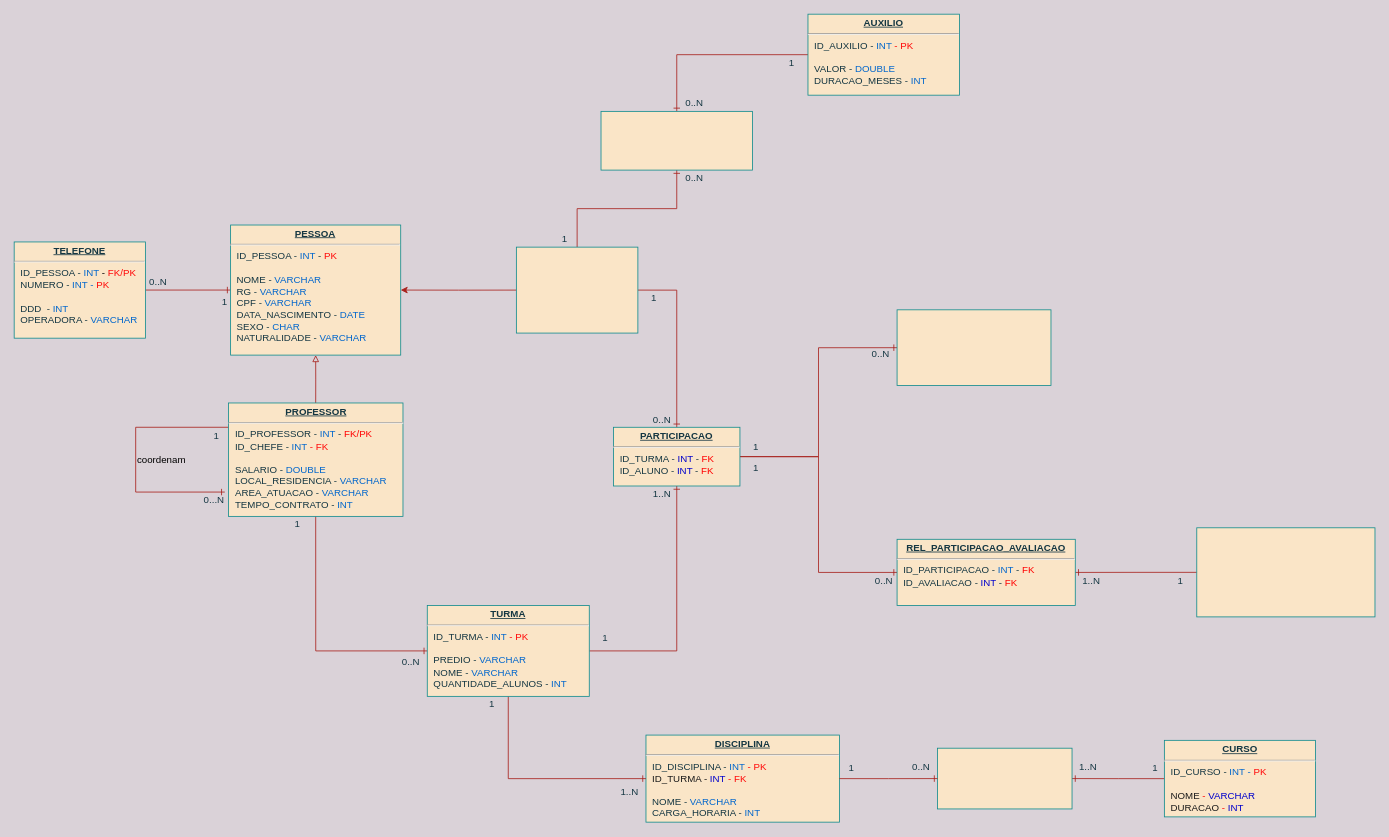
Image size: 1389x837. Some labels were removed from this diagram. Each missing label, with the centre of its shape:
"ALUNO ID_ALUNO - INT - FK/ PK DEFICIENCIA - INT MATRICULA - VARCHAR" belongs at point 577,289.
"AVALIACAO ID_AVALIACAO - INT - PK PESO - INT DATA - DATE TEMPO_DURACAO - INT" belongs at point 1285,572.
"PRESENCA ID_PRESENCA - INT - PK DATA - DATE PRESENTE - CHAR" belongs at point 973,347.
"REL_ALUNO_AUXILIO ID_ALUNO - INT - FK ID_AUXILIO - INT - FK" belongs at point 676,140.
"REL_DISCIPLINA_CURSO ID_CURSO - INT - FK ID_DISCIPLINA - INT - FK" belongs at point 1004,778.
